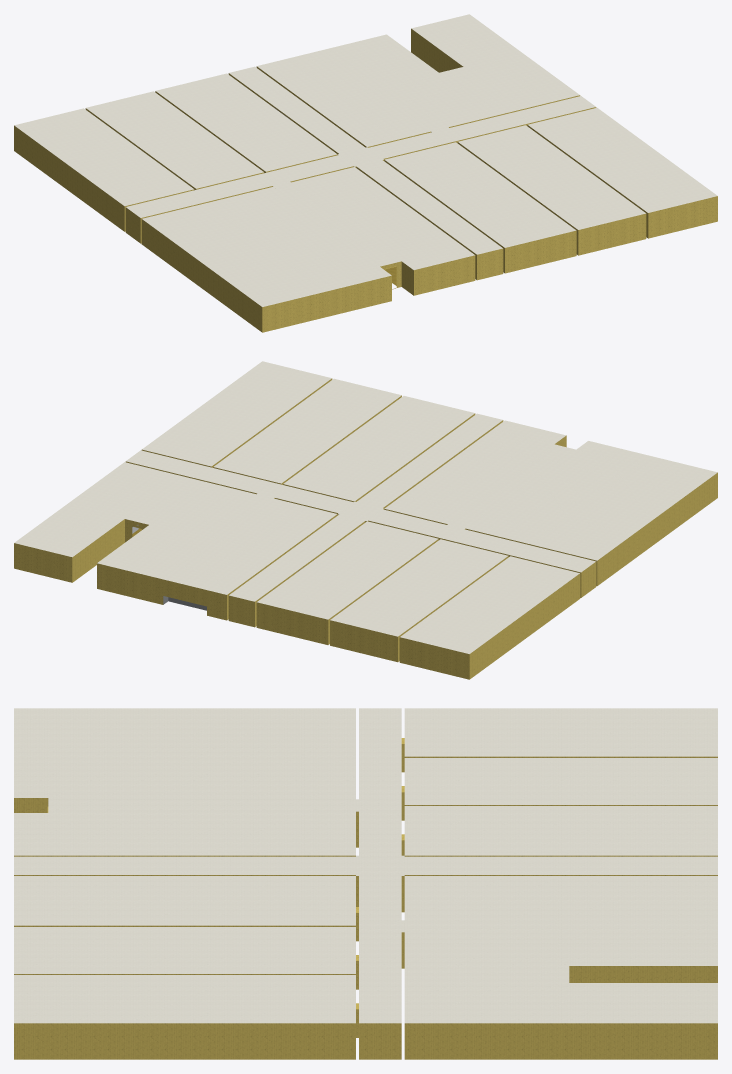
The model's file is gbi_L1_3.glb.
3 renders of one model, top to bottom at view 1: azimuth 30°, elevation 25°; view 2: azimuth 150°, elevation 25°; view 3: azimuth 270°, elevation 25°, orthographic. The views are drawn at different scales.
Visible parts, largest first — view 1: M_D_ceil_L1, M_D_wall_L1, M_GBI_kit; view 2: M_D_ceil_L1, M_D_wall_L1, M_GBI_kit; view 3: M_D_ceil_L1, M_D_wall_L1, M_GBI_kit.
Part boxes in pixels (left/top/right/bottom): M_D_ceil_L1: left=14, top=14, right=717, bottom=306; M_D_wall_L1: left=14, top=66, right=717, bottom=332; M_GBI_kit: left=411, top=28, right=463, bottom=72; M_D_ceil_L1: left=14, top=361, right=717, bottom=653; M_D_wall_L1: left=14, top=378, right=717, bottom=679; M_GBI_kit: left=72, top=519, right=148, bottom=582; M_D_ceil_L1: left=14, top=708, right=717, bottom=1023; M_D_wall_L1: left=14, top=738, right=717, bottom=1059; M_GBI_kit: left=569, top=966, right=717, bottom=982.
Bounding box in the file's own units: 52.2 × 2.8 × 49.3.
16 materials, 6 textured.
